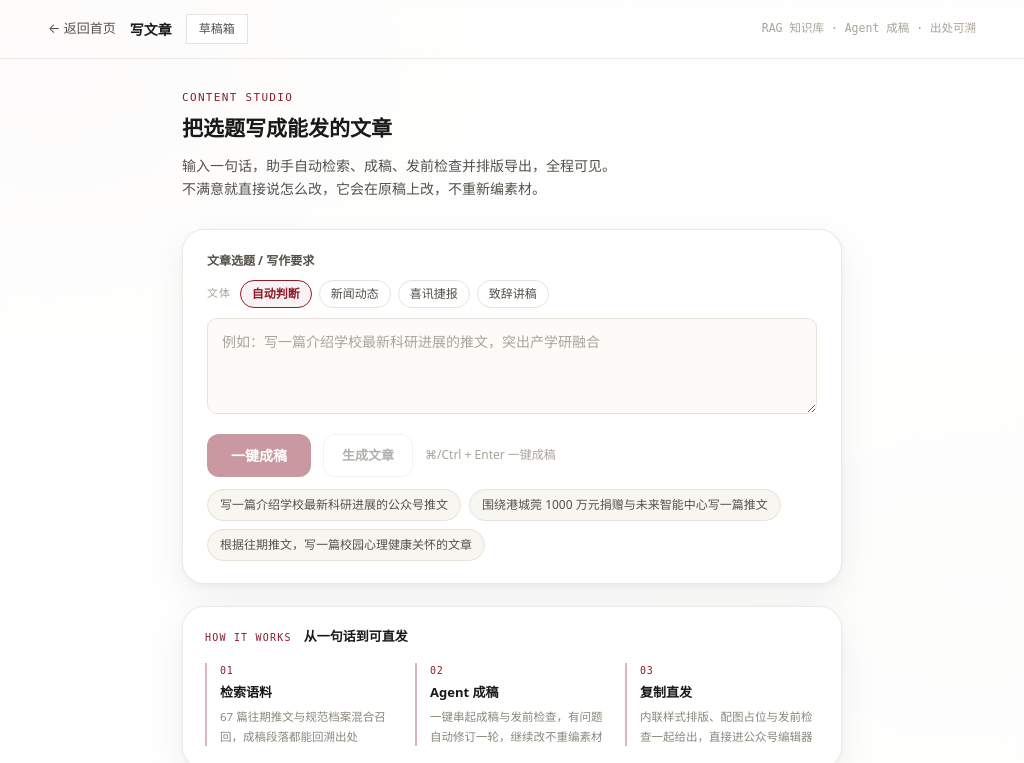
Test: 写文章页 — 改稿与草稿 › 可切回历史版本
Step 1. Type "写一篇科研进展推文" into the text box named "文章选题输入框" → (512, 366), box x1=207 y1=318 x2=817 y2=414
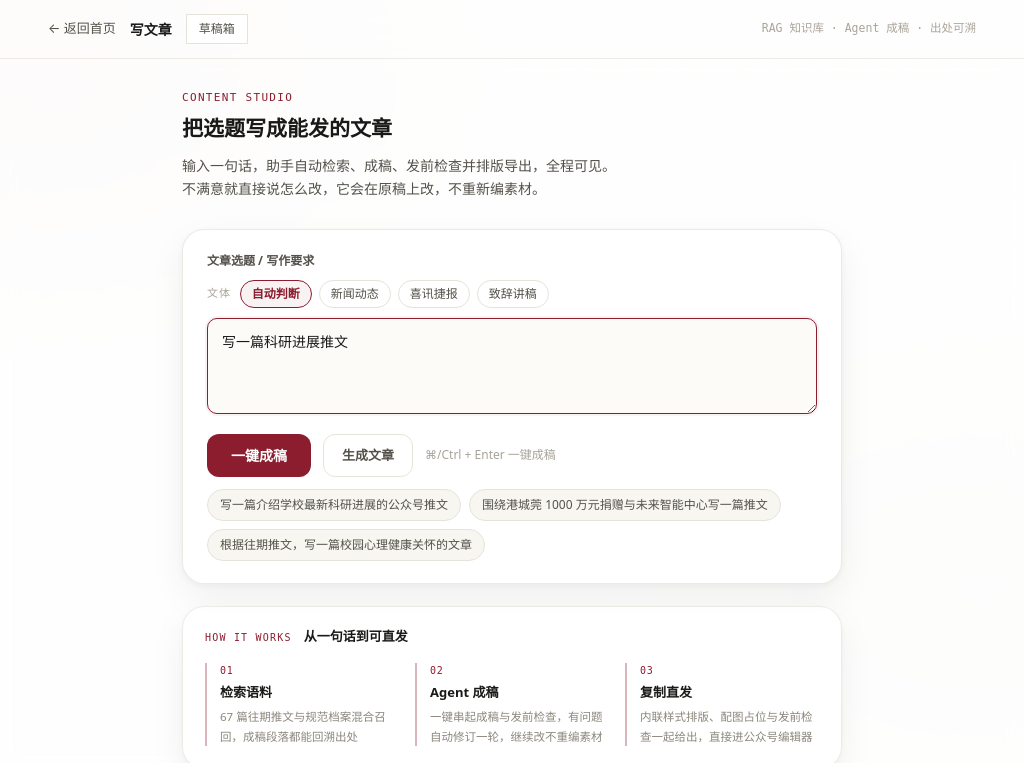
Step 2. Click the button "生成文章" → (368, 455), box x1=323 y1=434 x2=413 y2=477
(page scrolled)
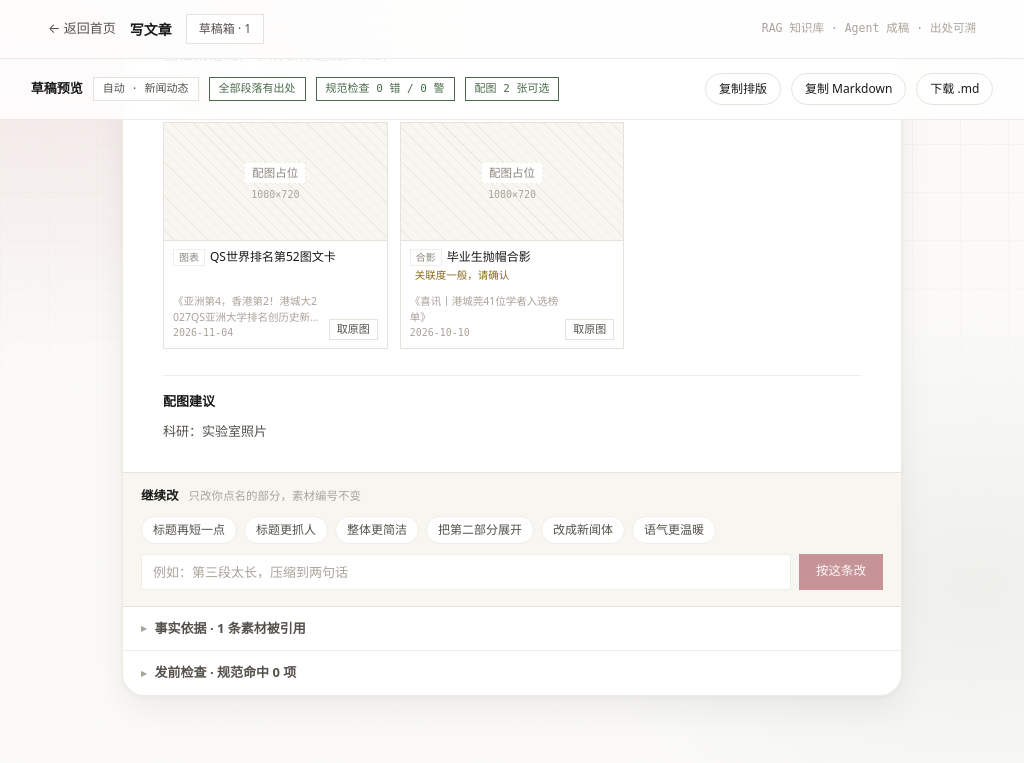
Step 3. Click the button "标题再短一点" → (189, 530), box x1=141 y1=516 x2=237 y2=544
(page scrolled)
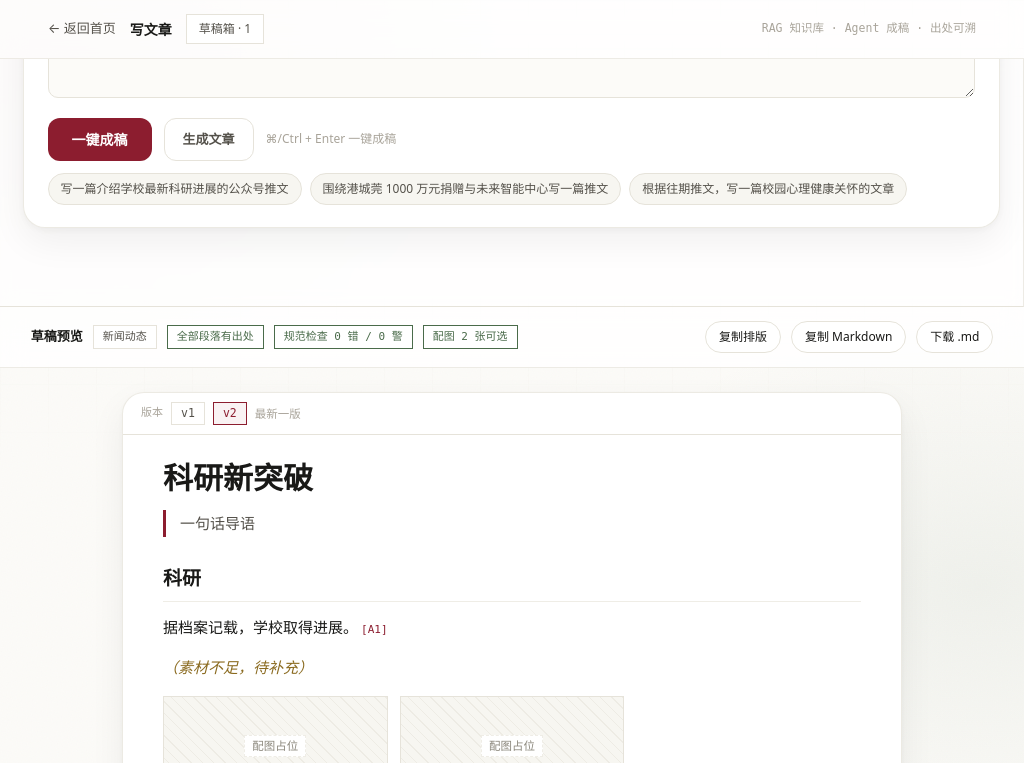
Now the heading "科研新突破" is shown, box x1=163 y1=462 x2=313 y2=495
Step 4. Click the button "v1" → (188, 414), box x1=171 y1=402 x2=205 y2=425
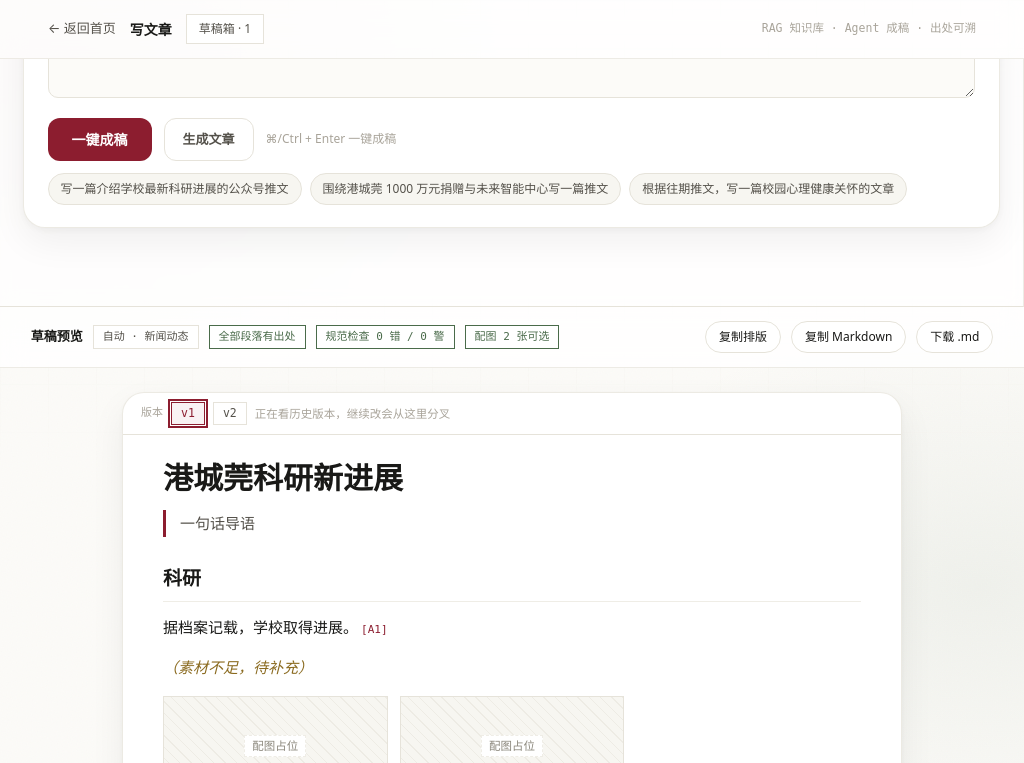
Now the heading "港城莞科研新进展" is shown, box x1=163 y1=462 x2=403 y2=495
